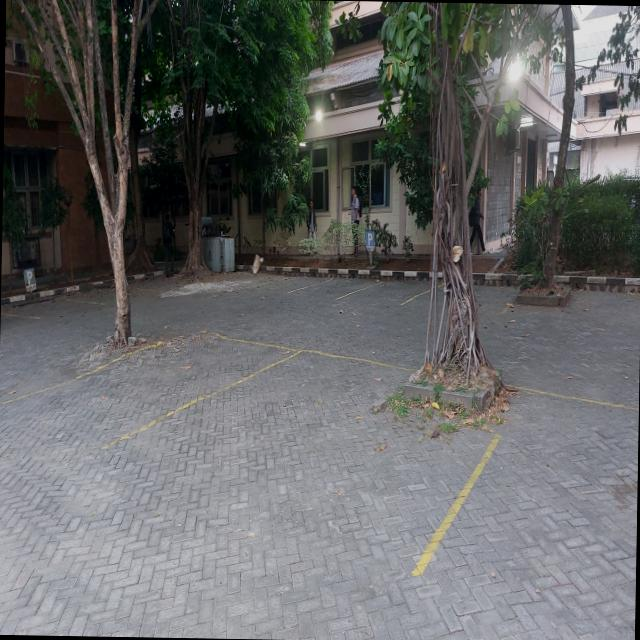free: (412, 387, 639, 620), (111, 348, 416, 520), (5, 330, 307, 447), (334, 279, 445, 307), (285, 276, 384, 300)
